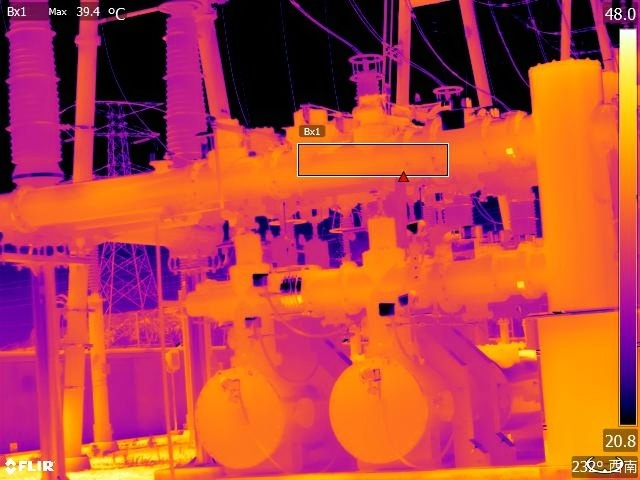tube: (1, 1, 70, 178), (154, 2, 211, 165), (343, 51, 390, 111), (433, 80, 472, 110)
